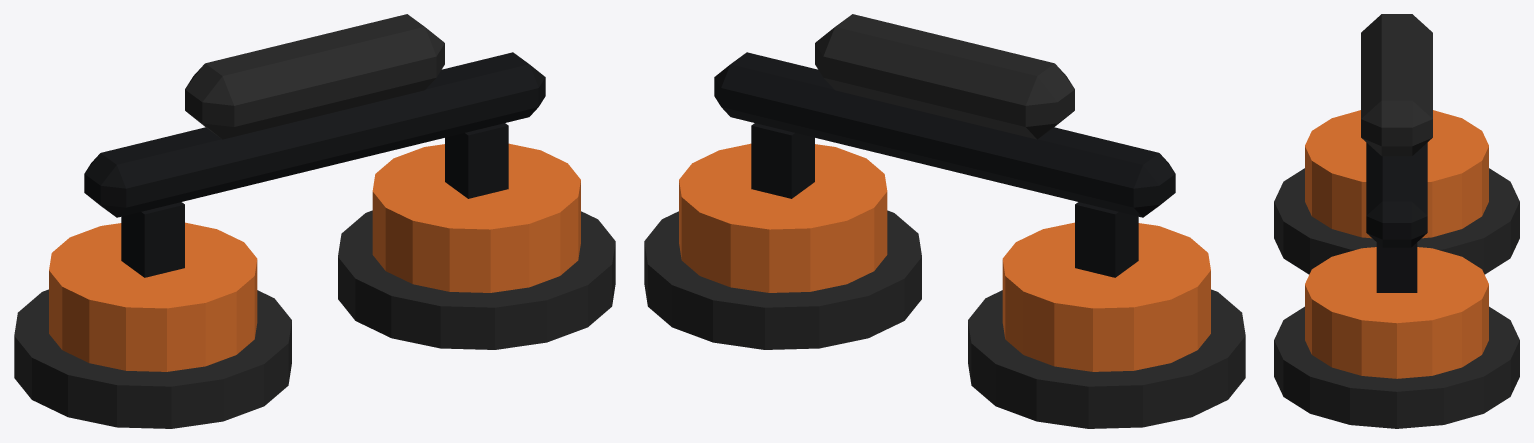
File: 24_Floor_Tile_Lifter.fbx
3 renders of one model, left to right at view 1: azimuth 30°, elevation 25°; view 2: azimuth 150°, elevation 25°; view 3: azimuth 270°, elevation 25°, orthographic. The views are drawn at different scales.
Visible parts, largest first — view 1: 24_Floor_Tile_Lifter; view 2: 24_Floor_Tile_Lifter; view 3: 24_Floor_Tile_Lifter.
Boxes of the visible parts, box(x1,y1,x2,y2) form: 24_Floor_Tile_Lifter: box(14, 14, 615, 428); 24_Floor_Tile_Lifter: box(644, 14, 1245, 428); 24_Floor_Tile_Lifter: box(1274, 14, 1519, 428).
Size of the model in its own units: 0.28 by 0.135 by 0.12.
